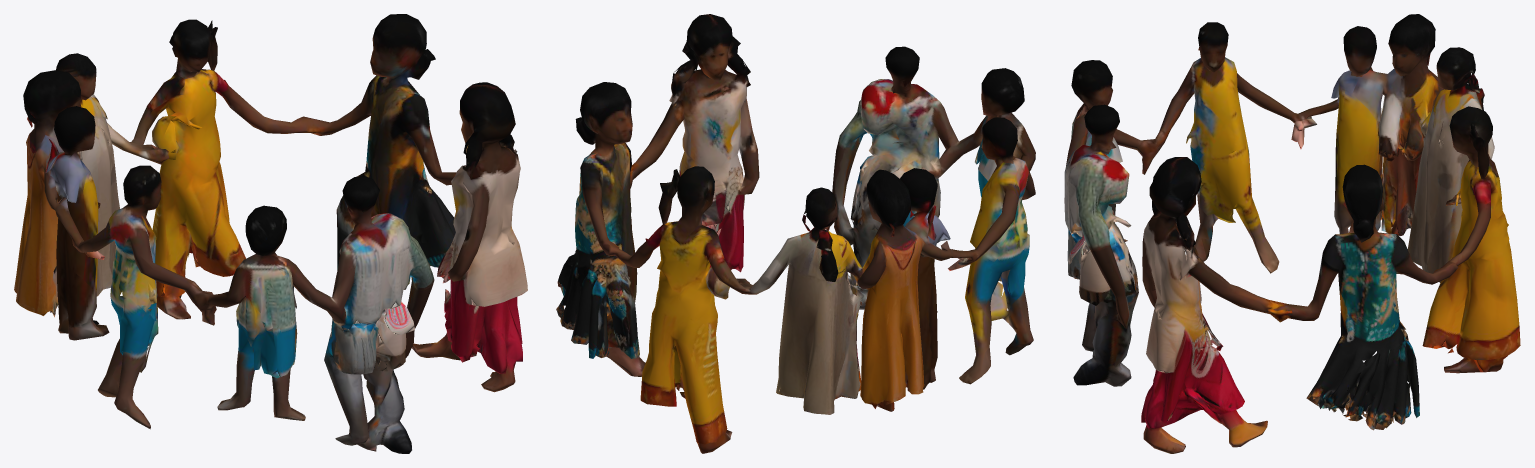
The model's file is IndianKids.glb.
The picture shows the model from 3 angles, left to right: view 1: azimuth 30°, elevation 25°; view 2: azimuth 150°, elevation 25°; view 3: azimuth 270°, elevation 25°; orthographic projection. The views are drawn at different scales.
Visible parts, largest first — view 1: tripo_node_89c818a6-5a89-49f3-a28f-f822c3086926; view 2: tripo_node_89c818a6-5a89-49f3-a28f-f822c3086926; view 3: tripo_node_89c818a6-5a89-49f3-a28f-f822c3086926.
Part boxes in pixels (x1,y1,x2,y2): tripo_node_89c818a6-5a89-49f3-a28f-f822c3086926: (14,14,527,453); tripo_node_89c818a6-5a89-49f3-a28f-f822c3086926: (556,14,1035,453); tripo_node_89c818a6-5a89-49f3-a28f-f822c3086926: (1064,14,1520,453).
Bounding box in the file's own units: 0.9998 × 0.6702 × 0.9668.
1 material, 1 textured.
